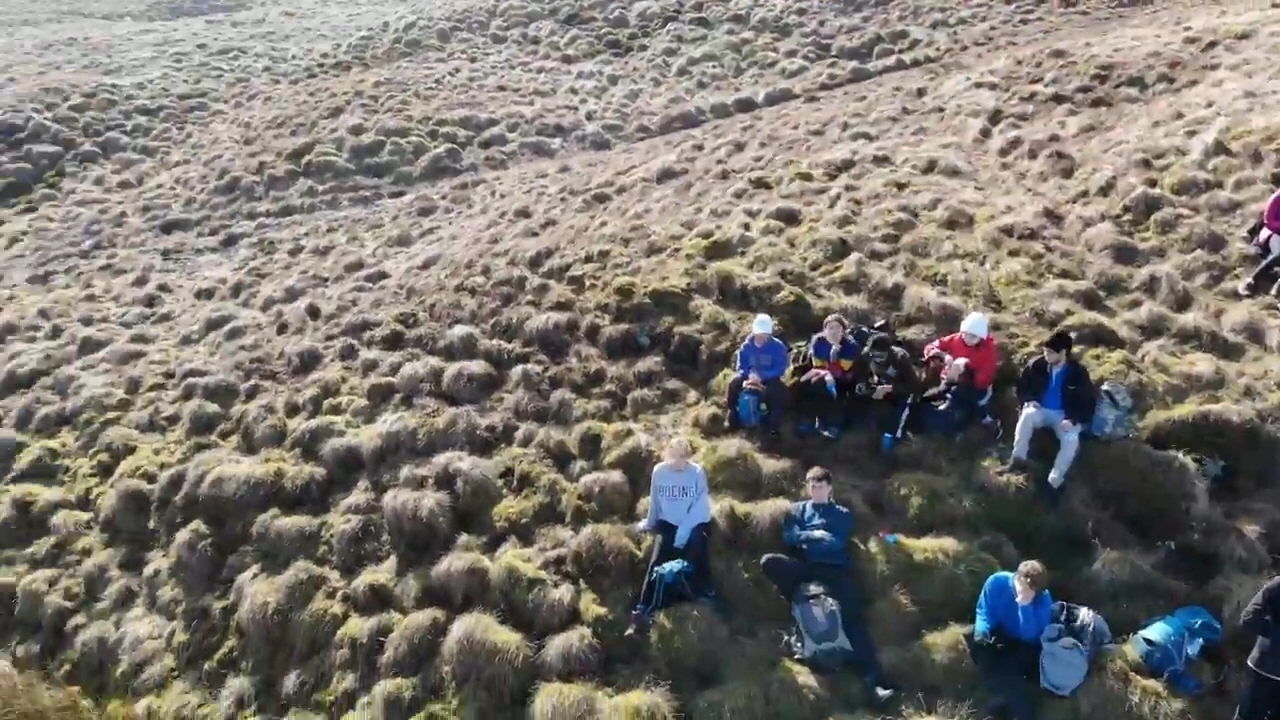insan: (759, 463, 907, 708), (620, 434, 717, 641), (993, 333, 1099, 493), (954, 556, 1053, 716), (806, 335, 918, 452), (921, 311, 1002, 452), (720, 313, 795, 446), (792, 313, 862, 422)
